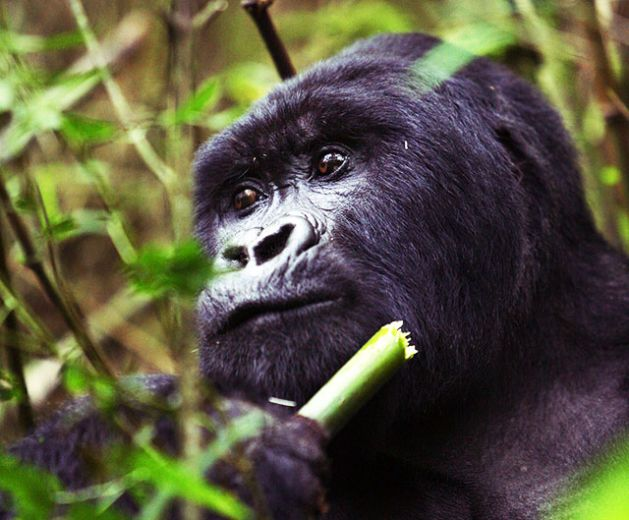Goriila: (153, 38, 626, 507)
